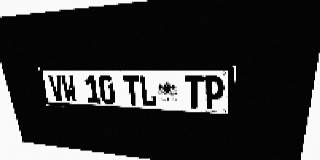0: (98, 75, 116, 104)
1: (83, 75, 101, 103)
L: (139, 75, 157, 106)
P: (204, 76, 224, 110)
T: (185, 76, 204, 109), (123, 75, 141, 106)
V: (48, 75, 65, 101)
W: (60, 75, 78, 102)
